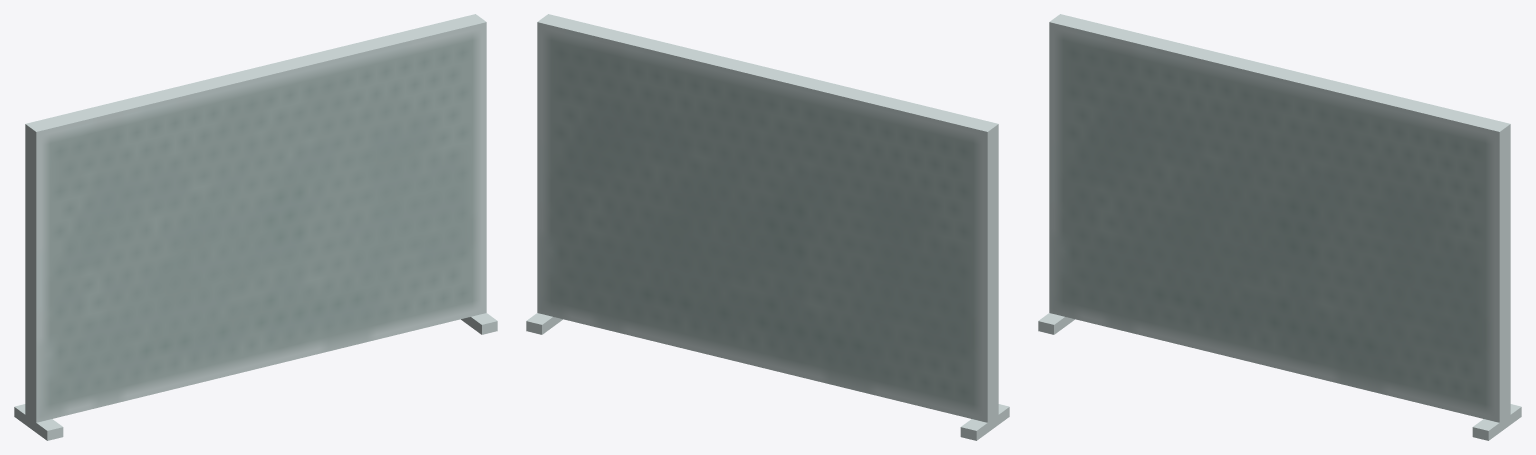
Rendered from Divider.fbx.
The picture shows the model from 3 angles, left to right: view 1: azimuth 30°, elevation 25°; view 2: azimuth 150°, elevation 25°; view 3: azimuth 330°, elevation 25°; orthographic projection.
Parts seen in each view (by area): view 1: Divider; view 2: Divider; view 3: Divider.
Part boxes in pixels (x1,y1,x2,y2): Divider: (14, 14, 497, 440); Divider: (526, 14, 1009, 440); Divider: (1038, 14, 1521, 440).
Size of the model in its own units: 294 by 188 by 37.5.
Materials: 1 (1 with a texture image).
